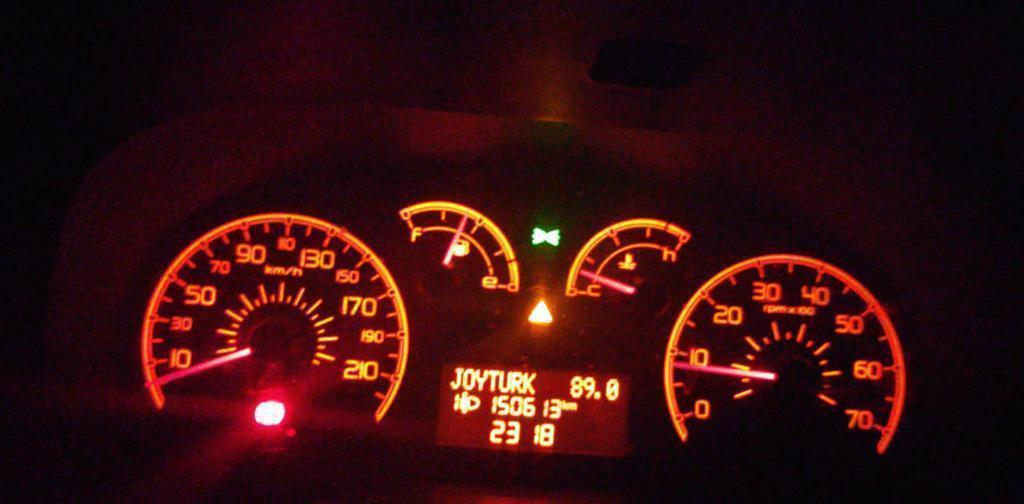,: (594, 390, 601, 399)
0: (604, 376, 620, 401), (510, 395, 523, 417)
1: (532, 423, 539, 446), (489, 394, 497, 413), (541, 397, 548, 418), (452, 392, 459, 412)
2: (488, 418, 505, 445)
3: (505, 419, 521, 445), (549, 398, 561, 419)
5: (497, 394, 509, 415)
6: (523, 396, 536, 417)
8: (539, 422, 555, 447), (568, 374, 583, 398)
9: (583, 375, 594, 399)
X: (448, 366, 462, 390), (475, 367, 488, 392), (523, 371, 536, 395), (487, 368, 499, 393), (462, 367, 474, 390), (511, 371, 523, 394), (499, 369, 510, 393), (567, 401, 578, 410), (561, 398, 567, 410)
odometer: (427, 356, 637, 460)
